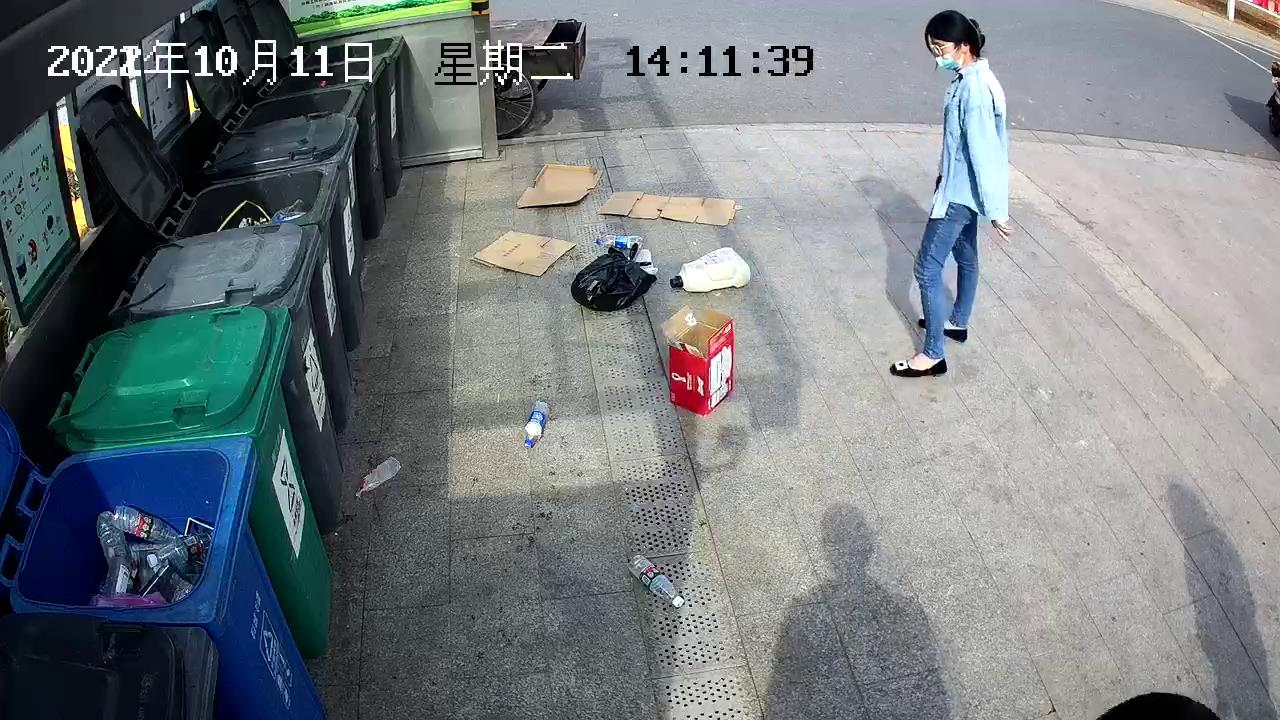garbage-bag: (569, 241, 656, 310)
suliaozhipin: (667, 245, 752, 295), (626, 550, 685, 609), (353, 455, 403, 502), (521, 396, 552, 448), (592, 232, 645, 250)
worker: (887, 8, 1014, 379)
zhizhipin: (658, 302, 737, 418), (599, 189, 737, 228), (467, 228, 577, 276), (513, 162, 605, 210)
